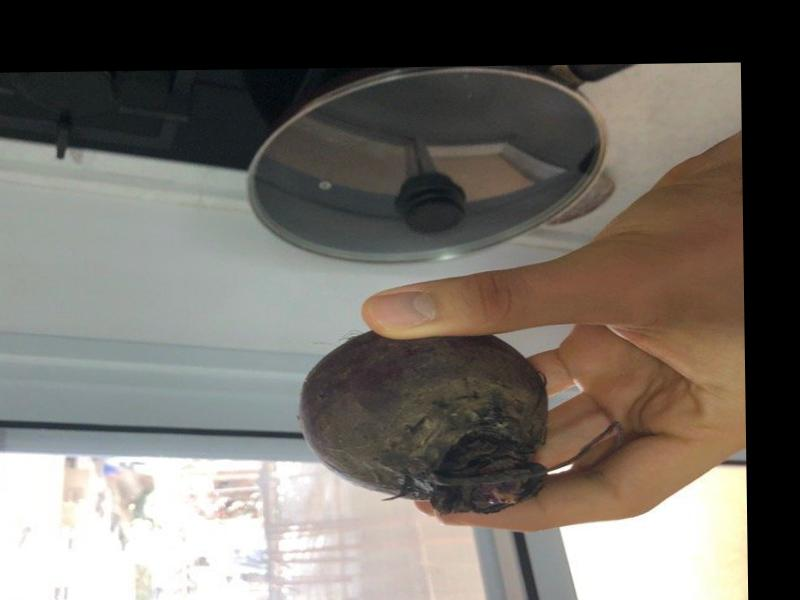Beet: (297, 325, 621, 517)
